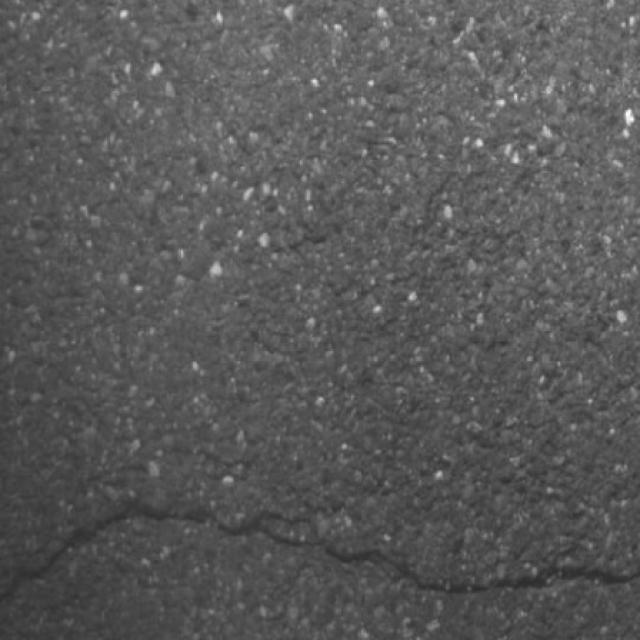Horizontal Crack: (0, 506, 640, 602)
